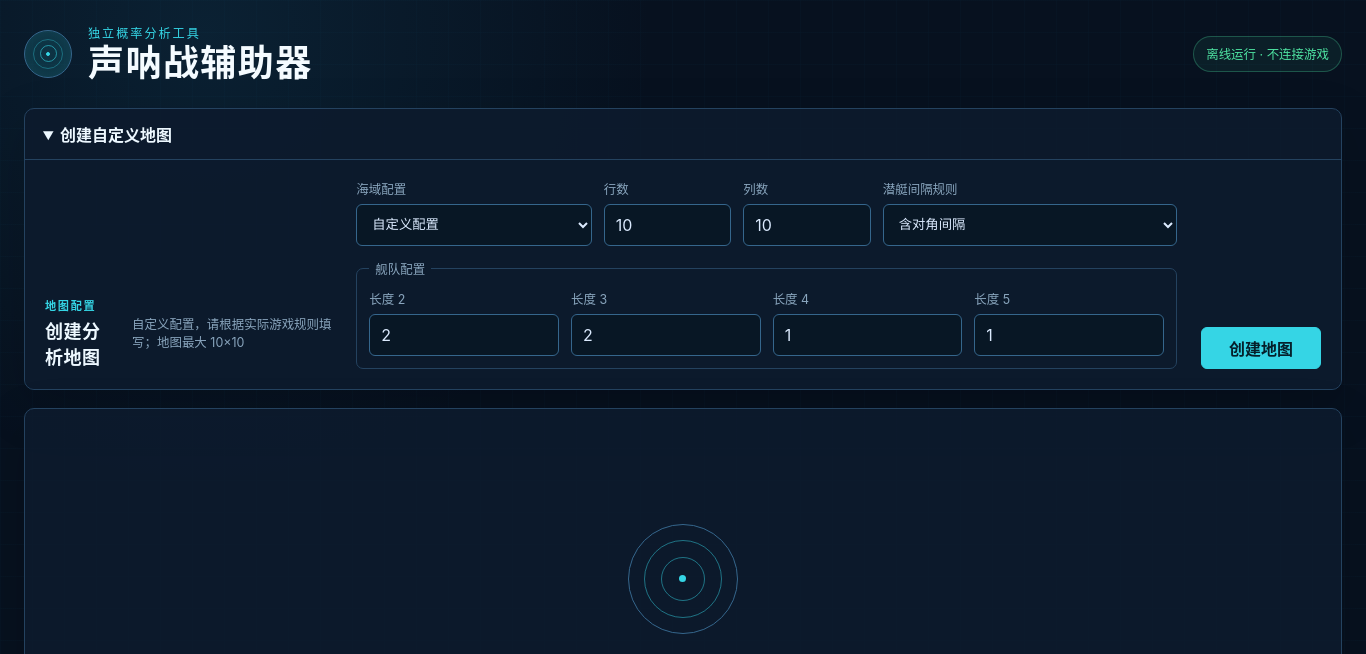
Test: App › estimated 结果产生明确的近似推荐
Click the button "创建地图" at (1261, 348), box [1201,327,1321,369]
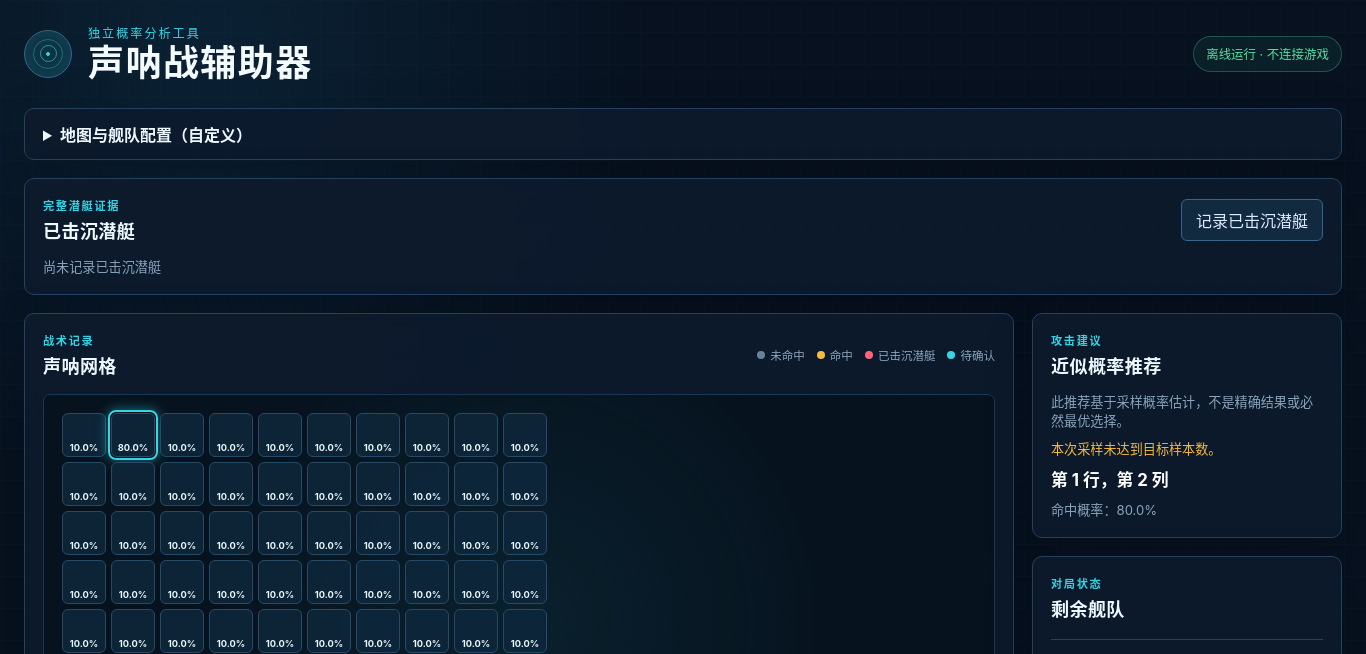
Expected: the heading "声呐网格" is shown, [43,352,117,378]
Expected: the heading "近似概率推荐" is shown, [1051,355,1162,377]
Expected: the text "本次采样未达到目标样本数。" is shown, [1051,441,1221,457]
